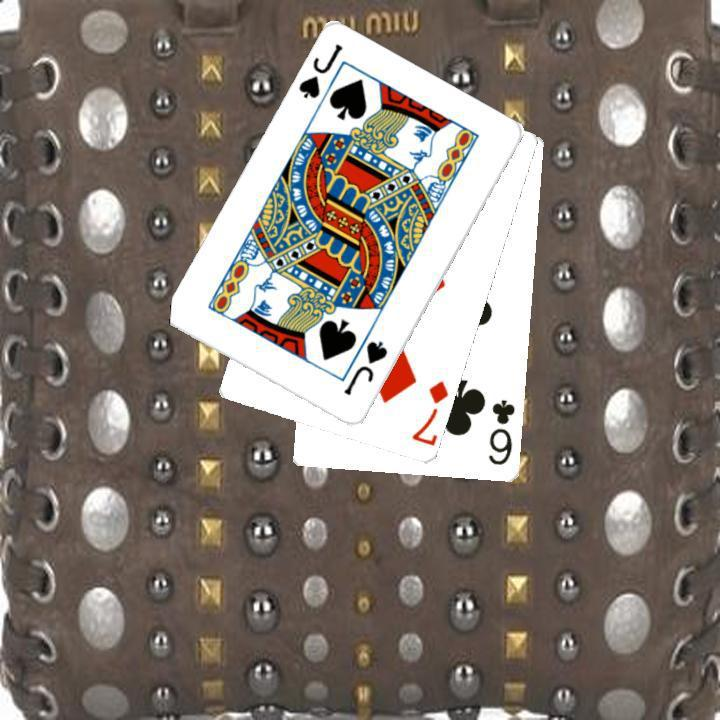6: (484, 396, 518, 468)
7: (407, 376, 451, 448)
J: (294, 40, 345, 102), (339, 337, 390, 398)
